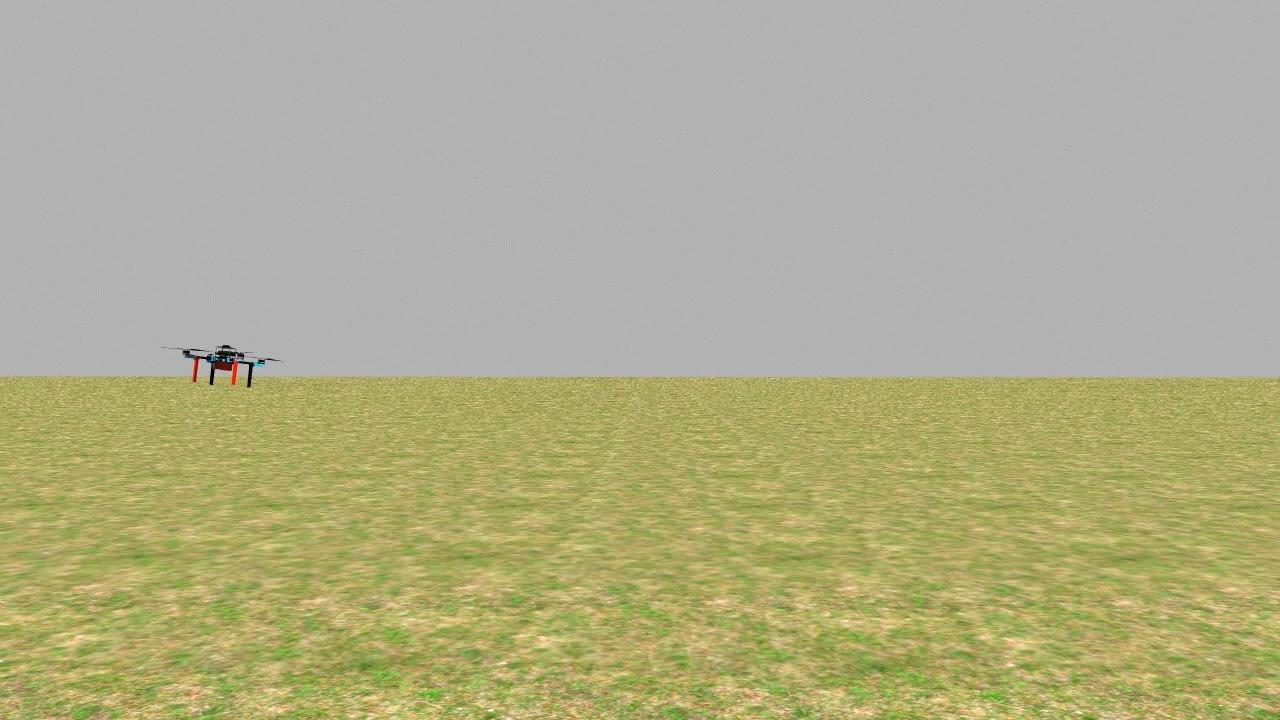UAV: (179, 334, 268, 389)
